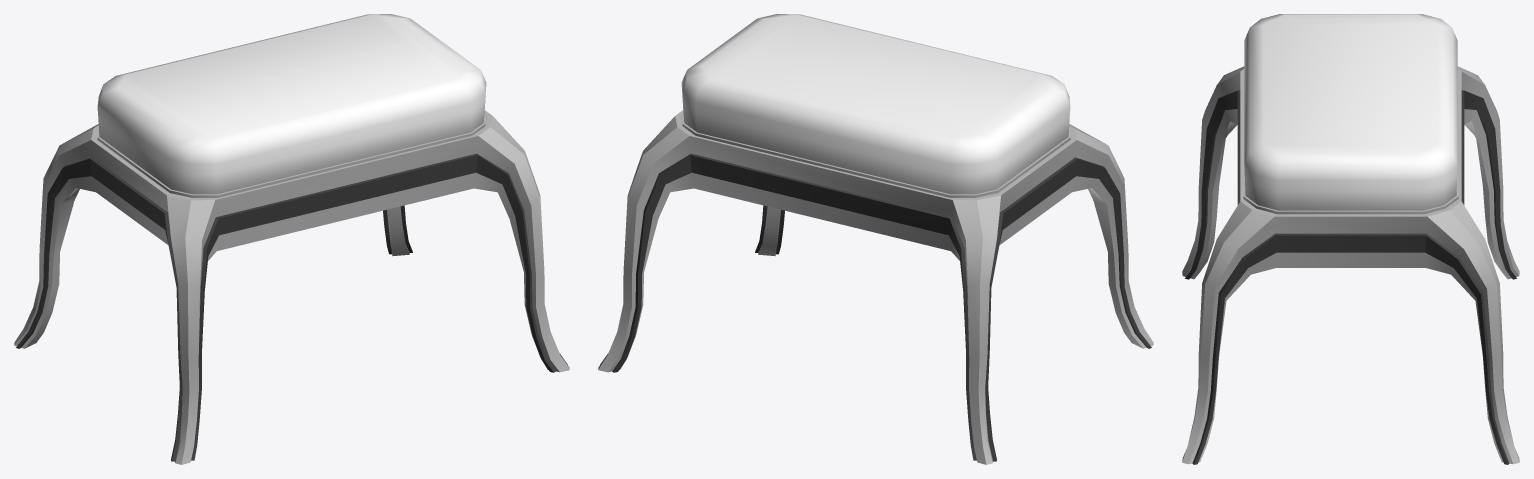
Rendered from stool-5.fbx.
3 renders of one model, left to right at view 1: azimuth 30°, elevation 25°; view 2: azimuth 150°, elevation 25°; view 3: azimuth 270°, elevation 25°, orthographic.
Parts seen in each view (by area): view 1: stool-5; view 2: stool-5; view 3: stool-5.
Boxes of the visible parts, <box> form: stool-5: <box>14,14,569,464</box>; stool-5: <box>598,14,1153,464</box>; stool-5: <box>1182,14,1519,464</box>.
Bounding box in the file's own units: 81.22 × 54.73 × 59.26.
Materials: 3 (3 with a texture image).
